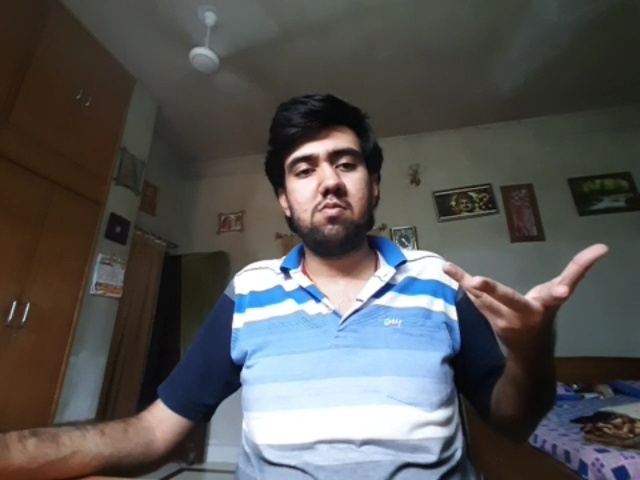What: (443, 243, 608, 354)
